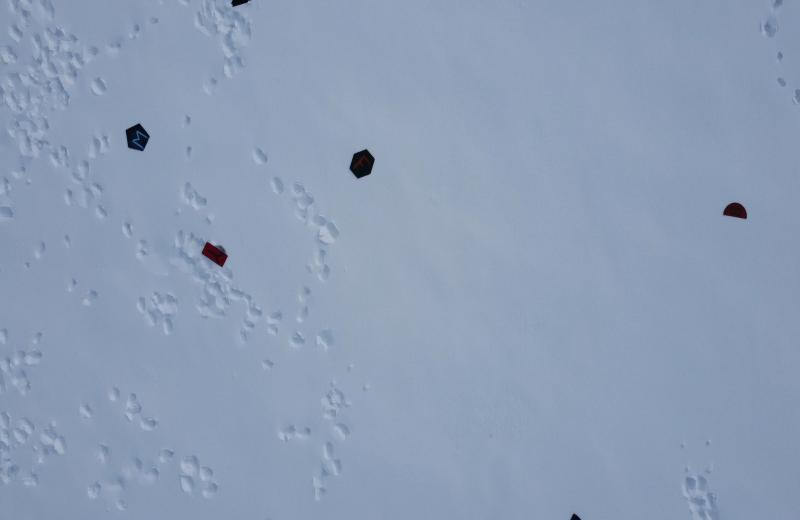Hexagon: (346, 146, 375, 182)
Pentagon: (122, 120, 152, 152)
Rectangle: (198, 236, 232, 266)
Semi Circle: (720, 198, 753, 225)
